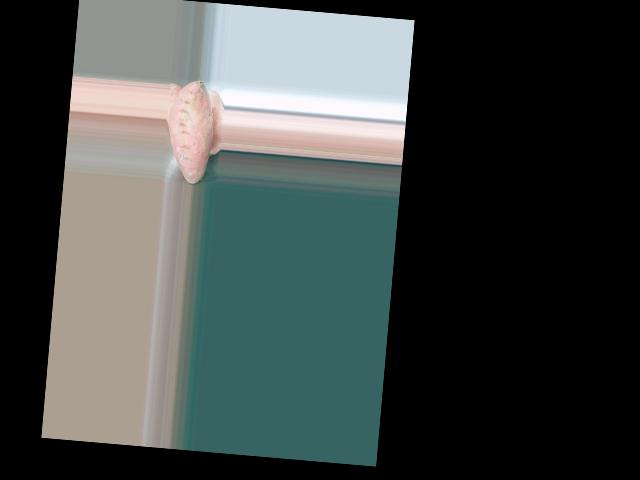sweet_potato: (167, 78, 212, 183)
